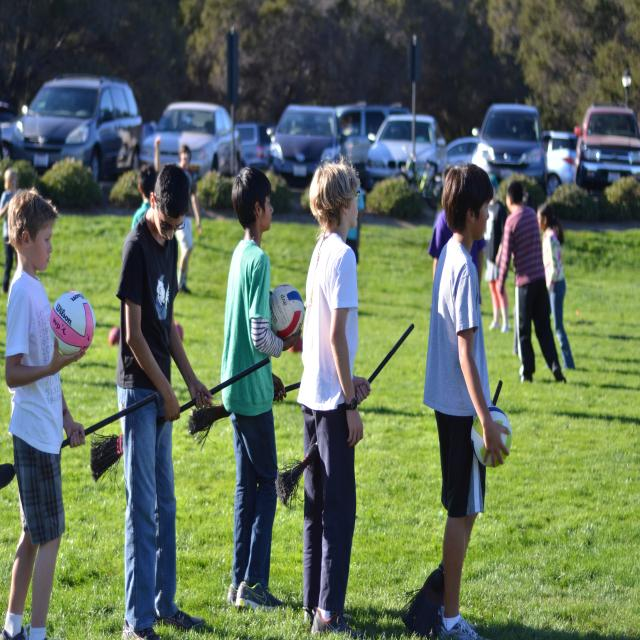body: (114, 160, 214, 640), (428, 156, 510, 638), (2, 185, 88, 640), (218, 162, 304, 612), (296, 151, 372, 640), (493, 181, 567, 388), (152, 133, 203, 294), (430, 163, 486, 304), (534, 201, 578, 374), (330, 157, 361, 302), (484, 176, 510, 334), (0, 165, 23, 294), (129, 162, 160, 233), (510, 270, 521, 364), (521, 193, 537, 210)
